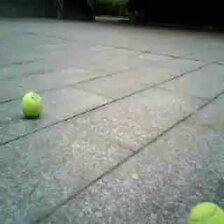tennis: (188, 202, 224, 224), (23, 93, 41, 117)
